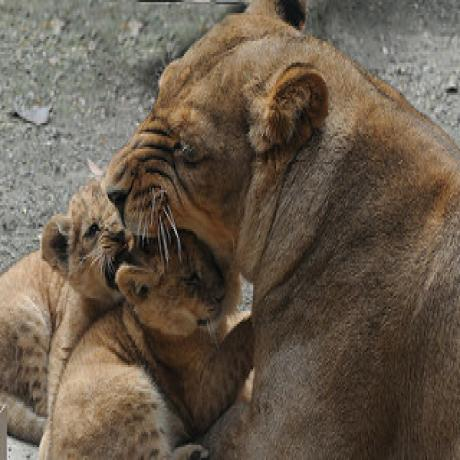Lion: (113, 0, 460, 460), (64, 228, 229, 460), (0, 165, 124, 437)
